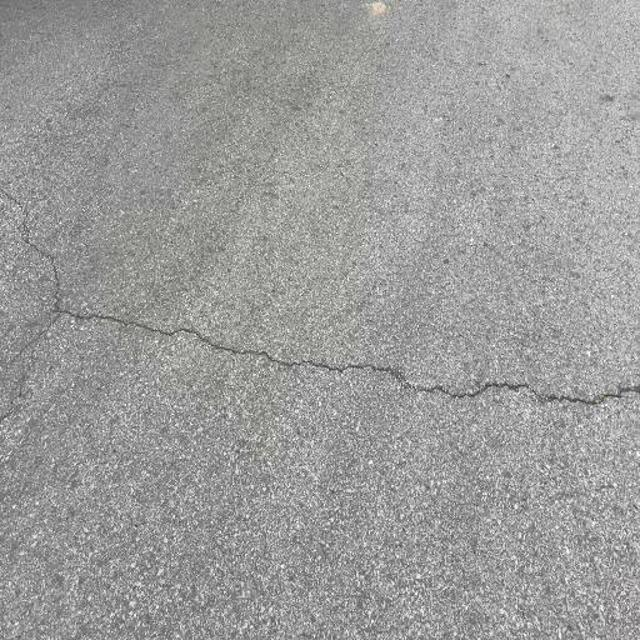Melintang: (32, 286, 640, 422)
